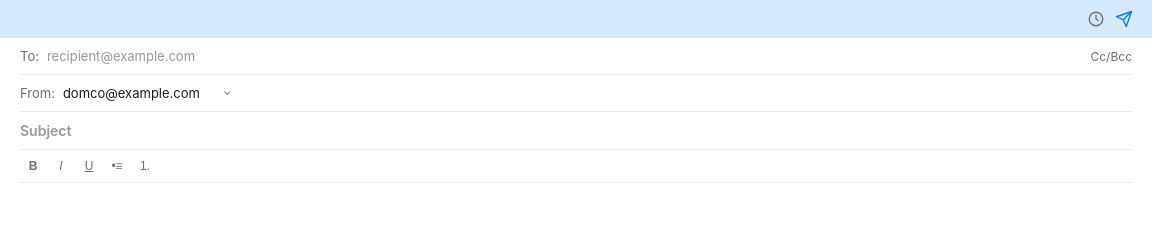
Test case: shows the failure and stays open when queueing fails
The width and height of the screenshot is (1152, 232).
Check: the dropdown named "From" shows "domco@example.com", box 63,85 -> 215,101
Type "bob@example.com" into the field named "To" at (565, 56), box 47,48 -> 1082,64
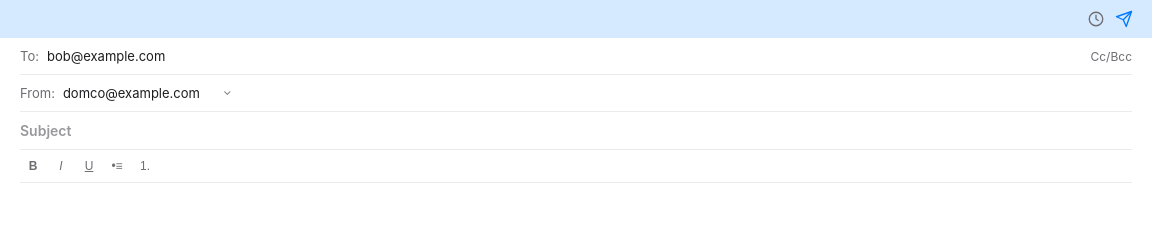
Click the button named "Send" at (1124, 19), box 1110,5 -> 1138,33
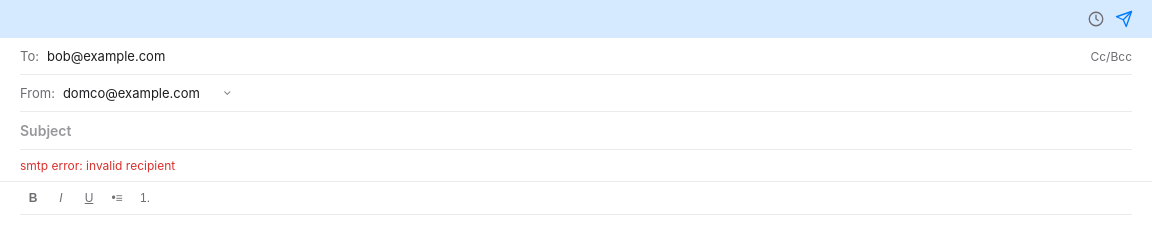
Check: the field named "To" is enabled, box 47,48 -> 1082,64
Check: the message reads "smtp error: invalid recipient", box 20,158 -> 175,173
